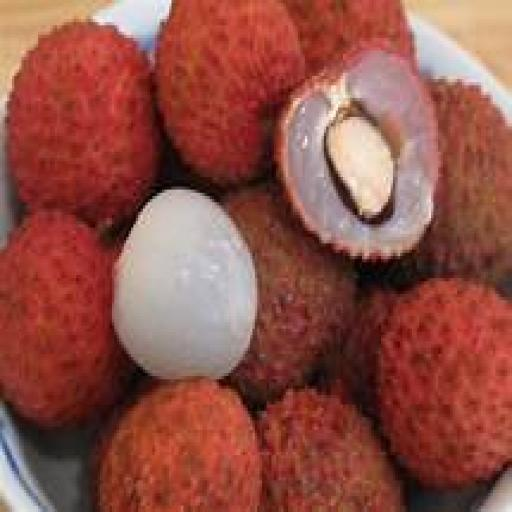lychee: (277, 42, 438, 259), (8, 23, 159, 224), (224, 184, 354, 404), (0, 212, 133, 426), (379, 279, 511, 486), (158, 0, 304, 186), (401, 80, 511, 284), (96, 380, 261, 511), (258, 389, 404, 511), (284, 0, 414, 72)
